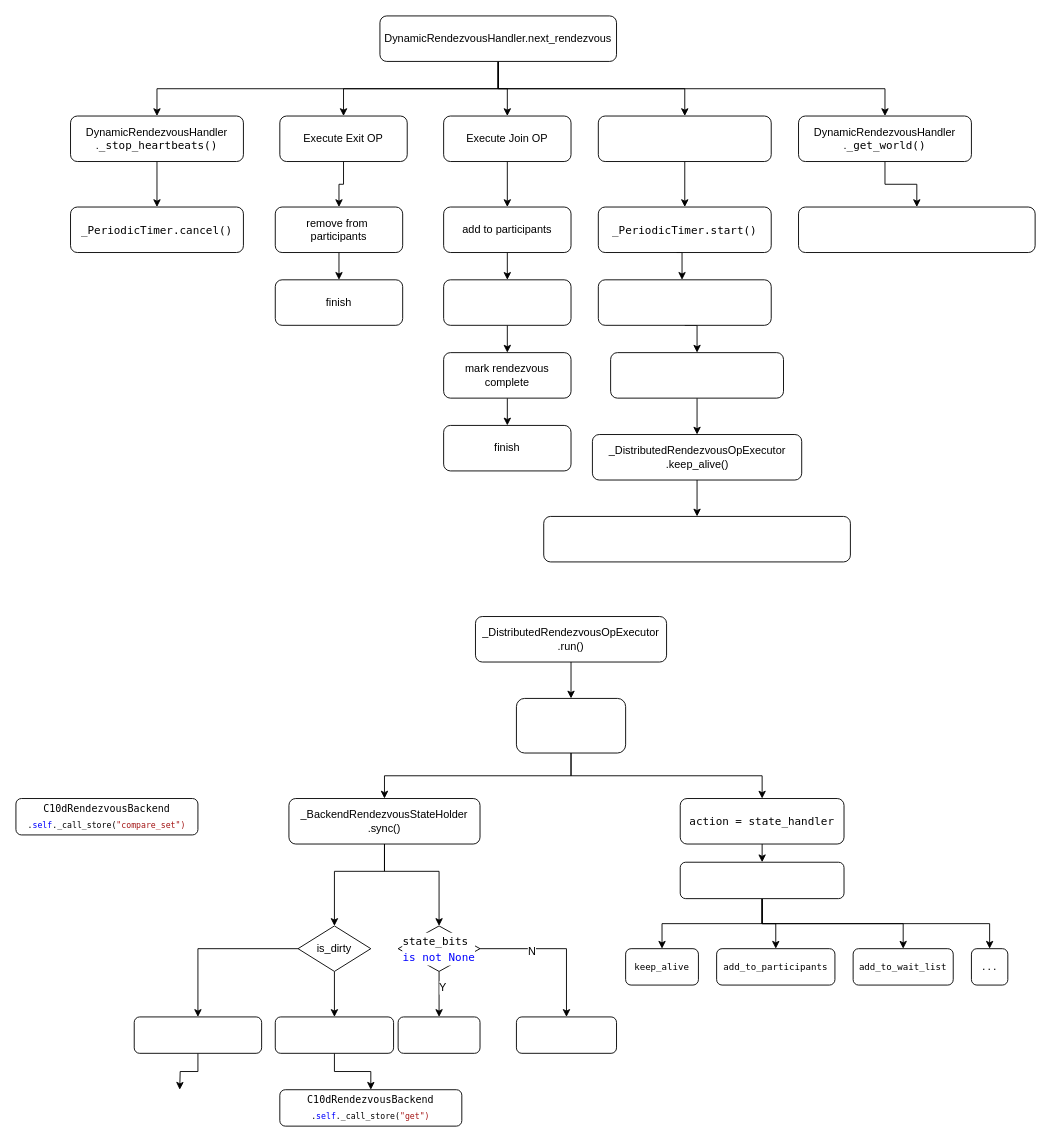
The diagram is 1051 pixels wide and 1142 high, and some of its shapes have lost their labels. Here are the shapes that lost their labels. From the top down, the centre of each, then its label:
pixel 684 138: DynamicRendezvousHandler . _start_heartbeats()
pixel 916 229: state.participants[ self ._this_node]
pixel 507 302: keep alive
pixel 684 302: DynamicRendezvousHandler ._keep_alive()
pixel 697 375: _RendezvousKeepAliveOp
pixel 696 539: self ._state.last_heartbeats[ self ._node] = datetime.utcnow()
pixel 571 725: while action != _Action. FINISH
pixel 761 880: execute action
pixel 197 1034: C10dRendezvousBackend .set_state()
pixel 334 1034: C10dRendezvousBackend .get_state()
pixel 438 1034: load(state_bits)
pixel 566 1034: new _RendezvousState()
